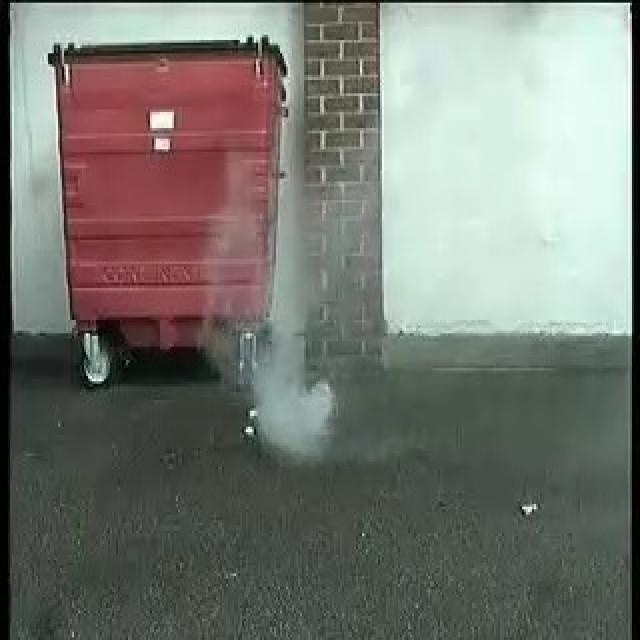smoke: (250, 294, 338, 464)
